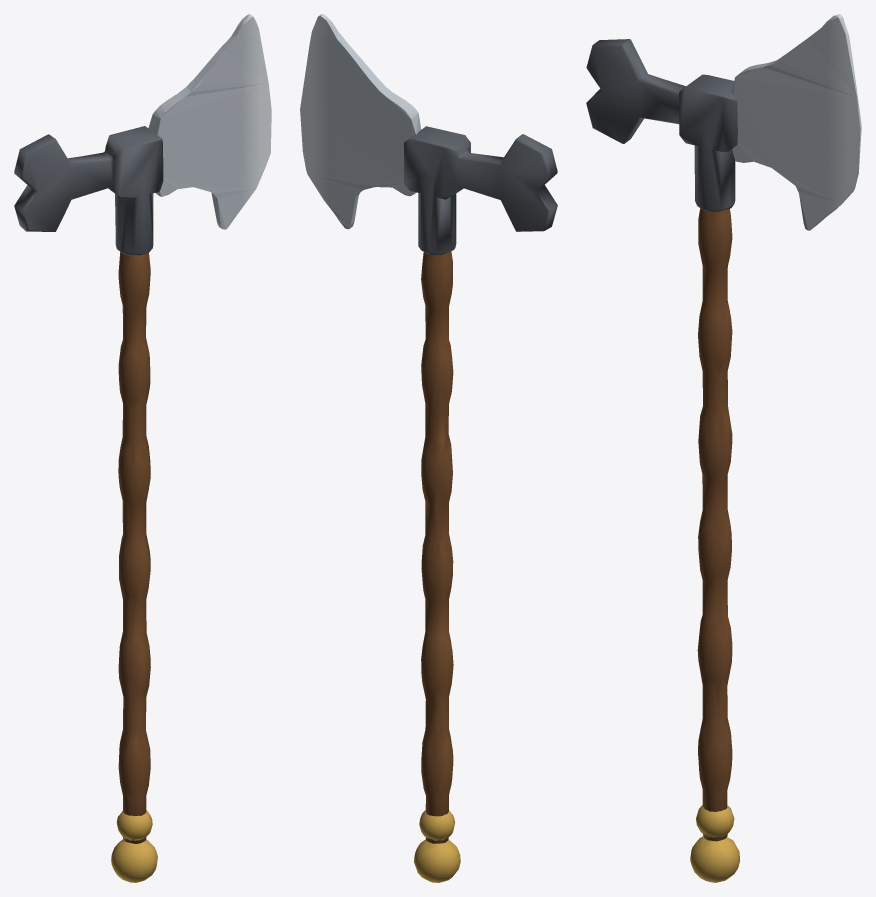
Rendered from halberd.glb.
3 views of the same model, side by side, from view 1: azimuth 30°, elevation 25°; view 2: azimuth 150°, elevation 25°; view 3: azimuth 330°, elevation 25° (orthographic). The views are drawn at different scales.
Parts seen in each view (by area): view 1: haft; view 2: haft; view 3: haft.
Boxes of the visible parts, x1,y1,x2,y2 form: haft: (14,14,271,882); haft: (300,14,557,882); haft: (586,14,861,882).
Bounding box in the file's own units: 0.6475 × 2.04 × 0.1031.
1 material, 1 textured.
